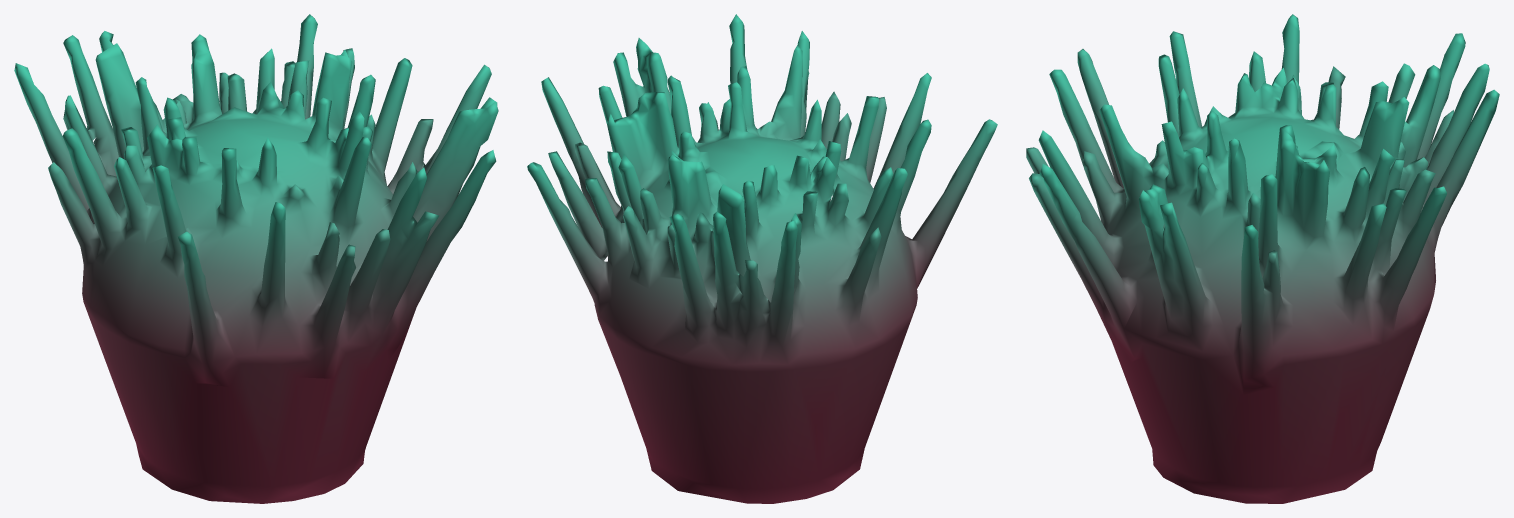
The model's file is kt_anemone_a.glb.
3 views of the same model, side by side, from view 1: azimuth 30°, elevation 25°; view 2: azimuth 150°, elevation 25°; view 3: azimuth 270°, elevation 25° (orthographic). The views are drawn at different scales.
Parts seen in each view (by area): view 1: kt_anemone_a; view 2: kt_anemone_a; view 3: kt_anemone_a.
Part boxes in pixels (box(x1,y1,x2,y2)): kt_anemone_a: box(14, 14, 498, 503); kt_anemone_a: box(527, 14, 997, 503); kt_anemone_a: box(1026, 14, 1499, 503).
Bounding box in the file's own units: 0.6573 × 0.5865 × 0.6618.
